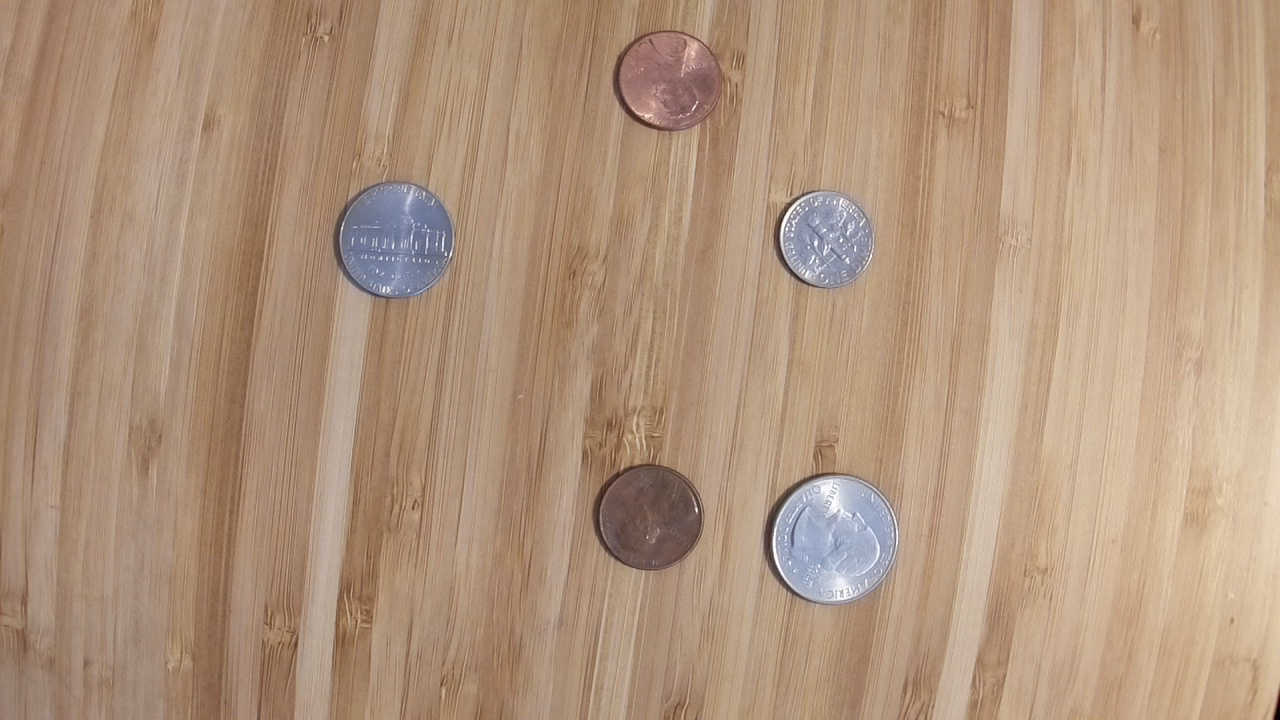dime: (775, 188, 877, 290)
nickel: (328, 176, 460, 304)
penny: (592, 462, 708, 574), (613, 28, 725, 132)
quarter: (766, 472, 900, 606)
